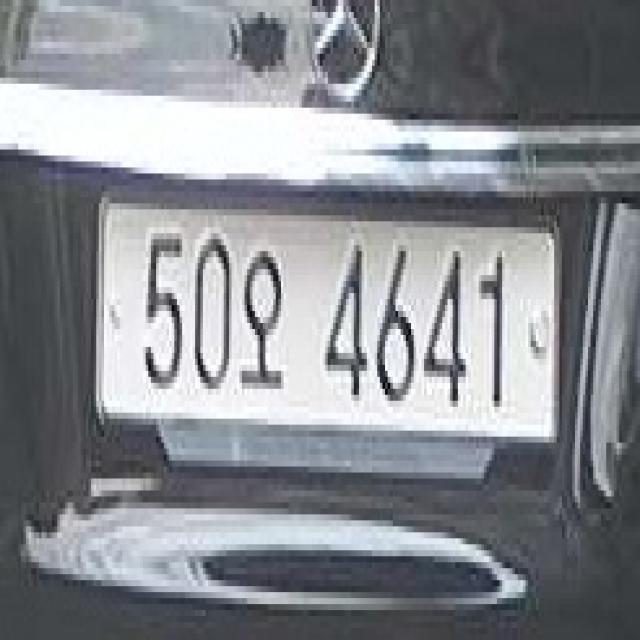0: (191, 225, 232, 399)
1: (478, 239, 514, 426)
4: (326, 228, 375, 412), (422, 240, 470, 420)
5: (138, 224, 187, 402)
6: (378, 234, 418, 416)
license_plate: (84, 180, 576, 466)
o: (237, 236, 290, 402)
